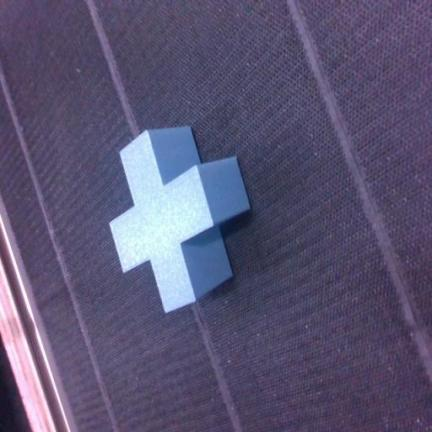cross: (110, 128, 249, 312)
